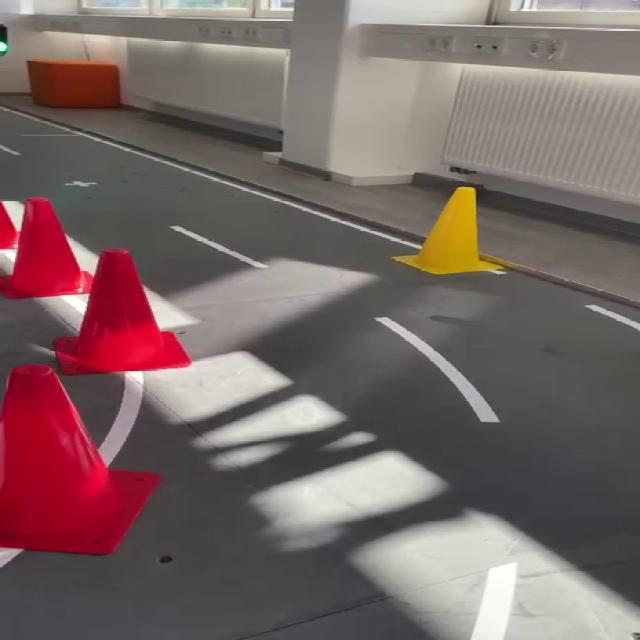Cone-red: (0, 198, 190, 375), (0, 365, 159, 554)
Cones-yellow: (398, 187, 498, 275)
